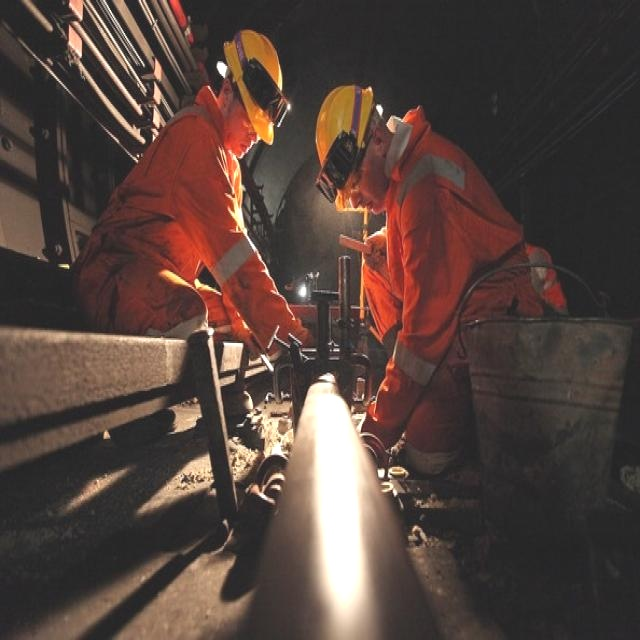Con_Casco: (315, 82, 385, 210), (216, 31, 284, 154)
